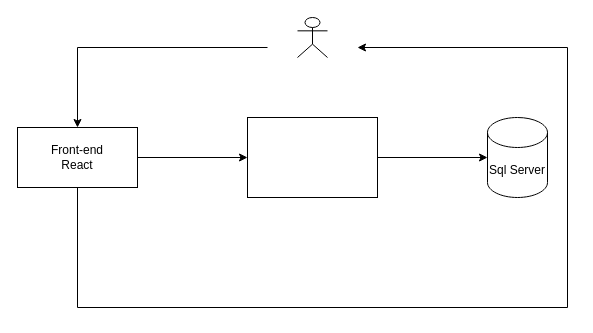
Image size: 593x333. Some labels were removed from this diagram. The box of each missing label's shape, as (x1, y1, x2, y2) in pixels:
Actor: (296, 16, 328, 58)
API REST Crud: (246, 116, 378, 198)
